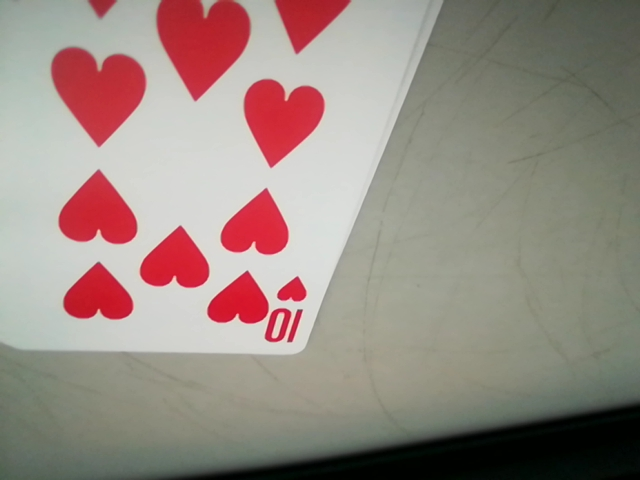hx 10: (267, 269, 312, 343)
